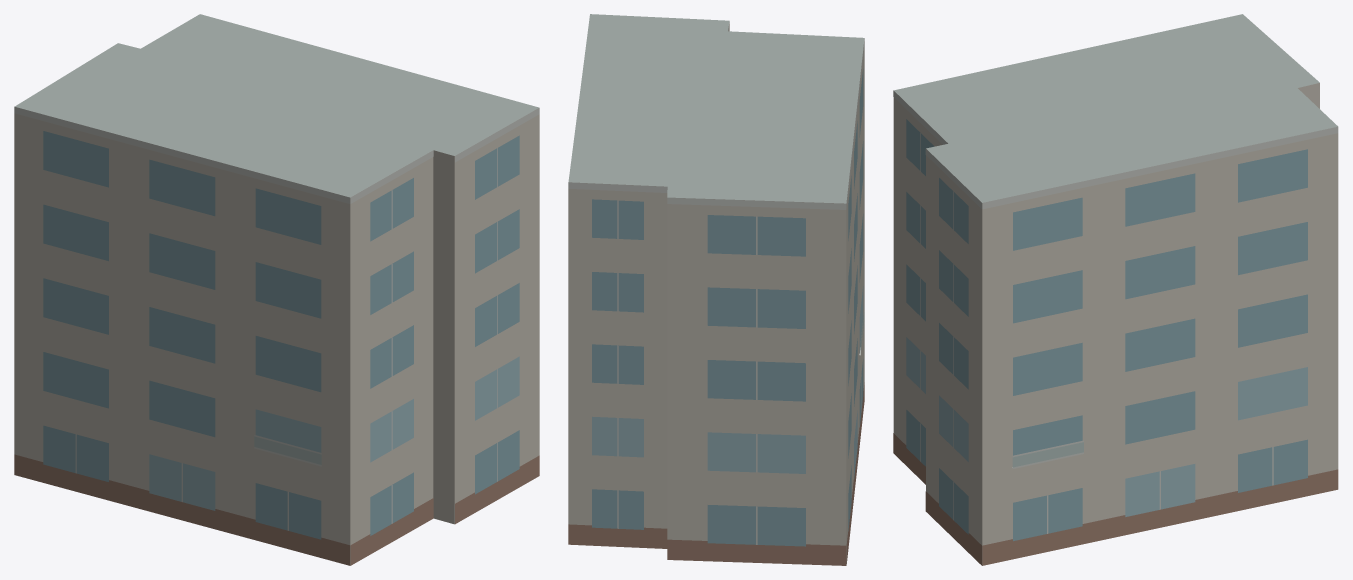
Rendered from survey-upis-32853968.glb.
3 views of the same model, side by side, from view 1: azimuth 30°, elevation 25°; view 2: azimuth 150°, elevation 25°; view 3: azimuth 270°, elevation 25° (orthographic).
Parts seen in each view (by area): view 1: survey-upis-32853968.tmp; view 2: survey-upis-32853968.tmp; view 3: survey-upis-32853968.tmp.
Boxes of the visible parts, <box> form: survey-upis-32853968.tmp: <box>14,14,539,565</box>; survey-upis-32853968.tmp: <box>568,14,864,565</box>; survey-upis-32853968.tmp: <box>893,14,1338,565</box>.
Size of the model in its own units: 15.18 by 13.59 by 15.1.
